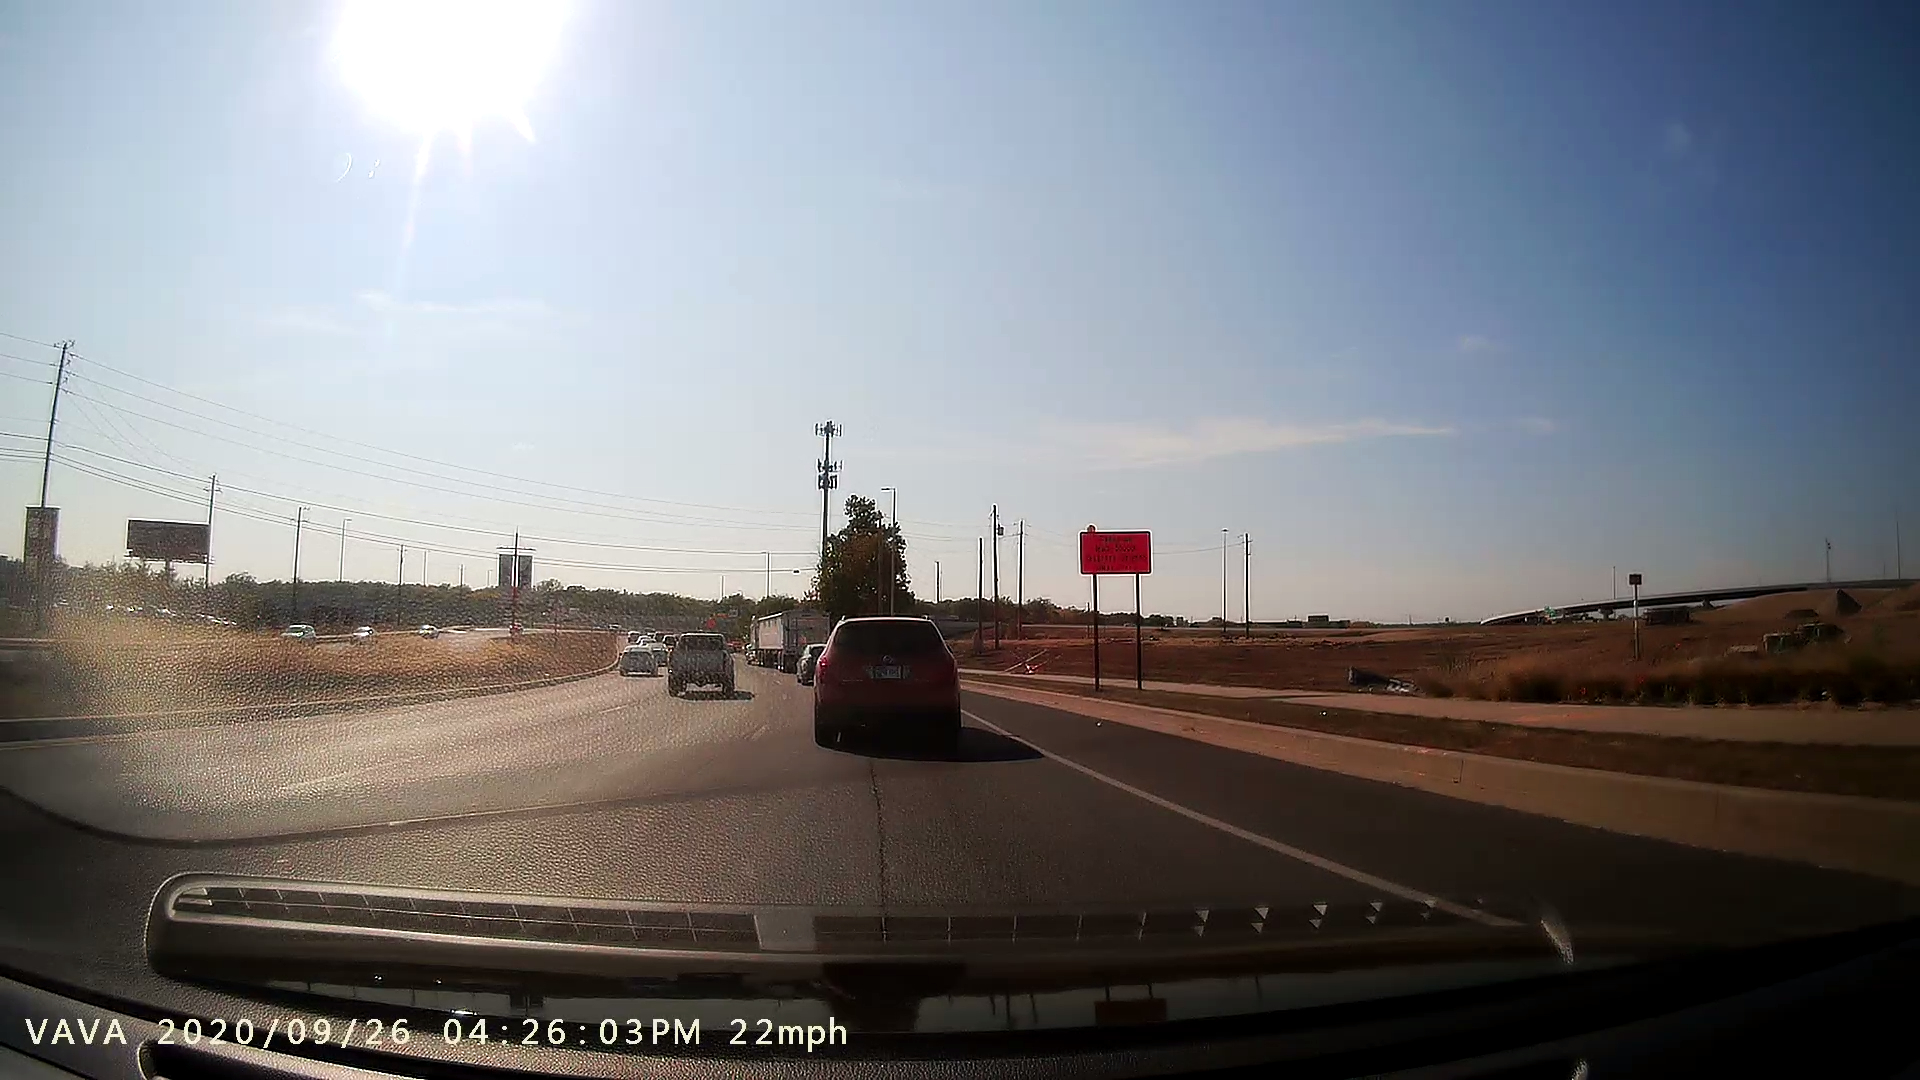temperary_sign: (1077, 524, 1154, 698)
